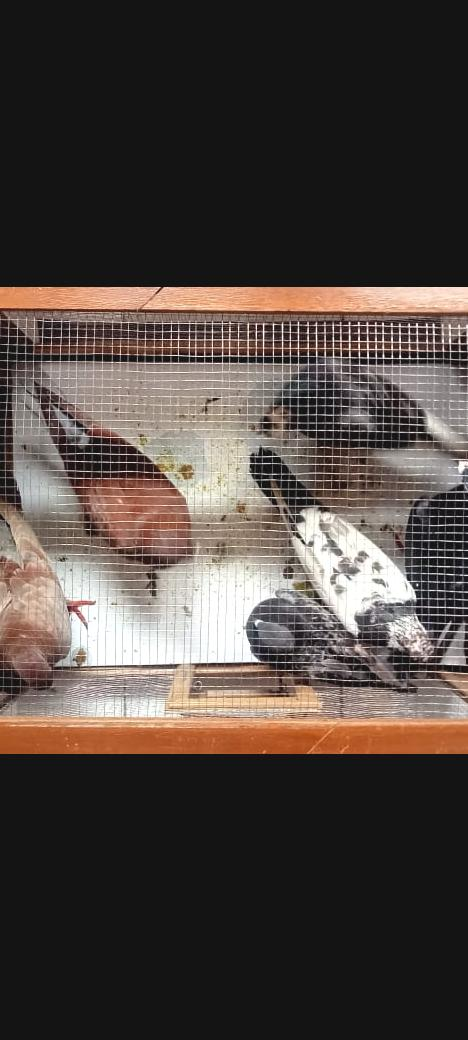Merpati: (247, 445, 434, 661), (18, 366, 191, 569), (250, 357, 468, 465), (0, 474, 94, 691), (245, 589, 427, 694), (405, 459, 468, 656)
